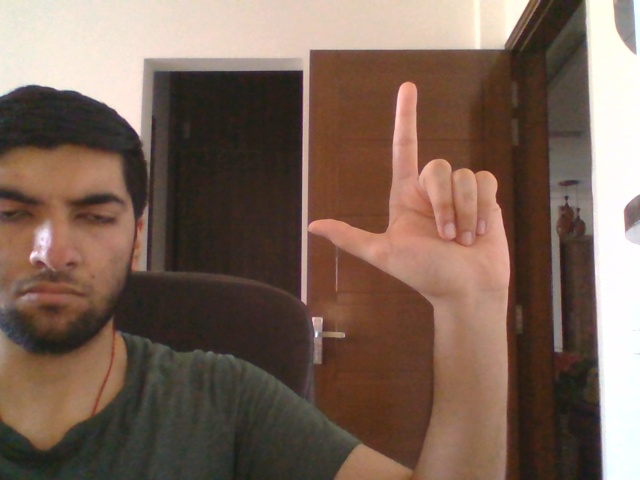LetterL: (306, 81, 511, 299)
